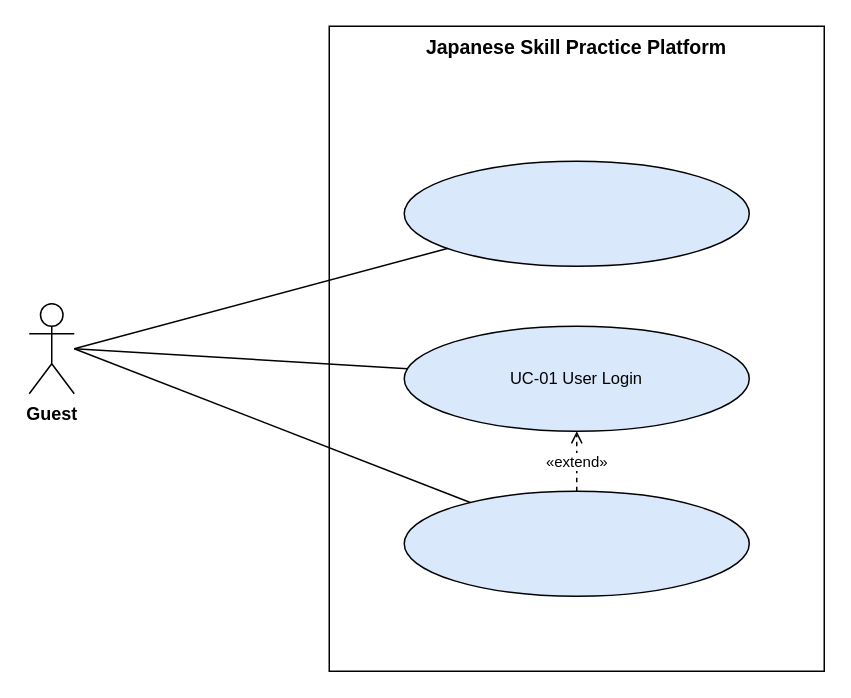
The diagram is 851 pixels wide and 698 high, and some of its shapes have lost their labels. Here are the shapes that lost their labels. From the top down, the centre of each, then its label:
At [576,213]: "UC-02 User Register".
At [576,543]: "UC-03 Reset Password".
